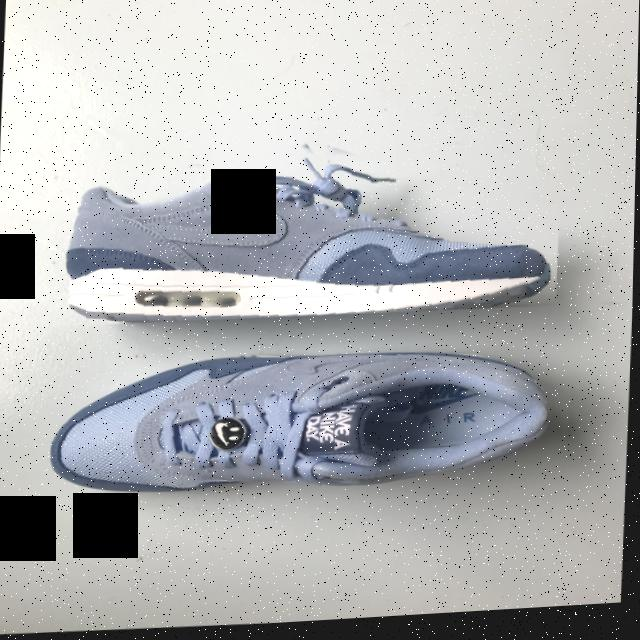shoe: (27, 121, 563, 336), (40, 324, 580, 523)
